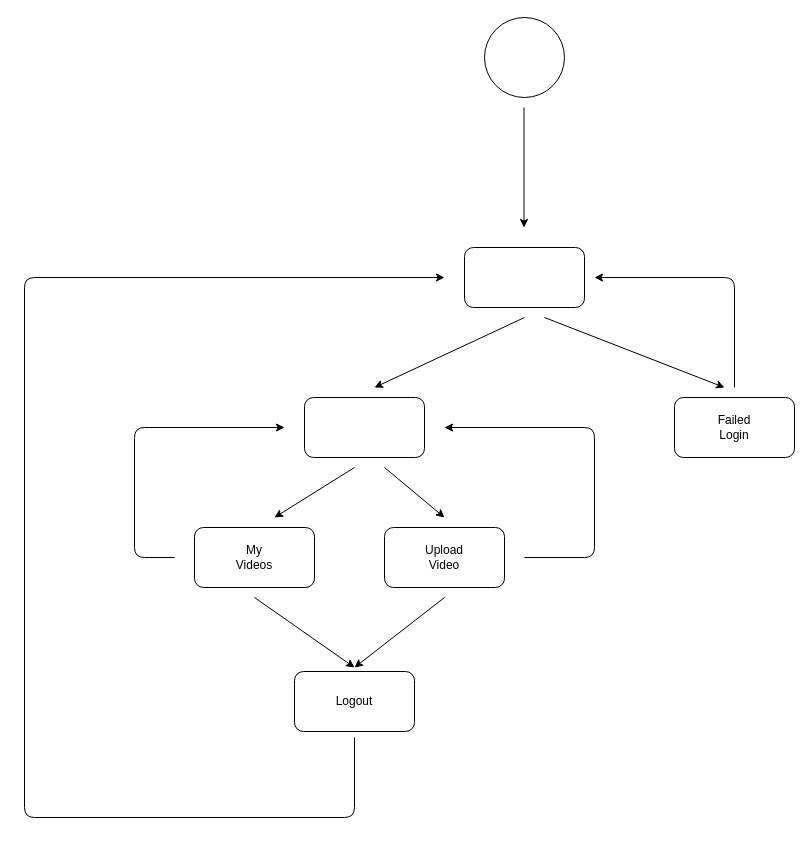
Image size: 812x843. Some labels were removed from this diagram. Each missing label, with the box of its shape:
Login Screen: (464, 246, 584, 308)
Video Home: (304, 396, 424, 458)
